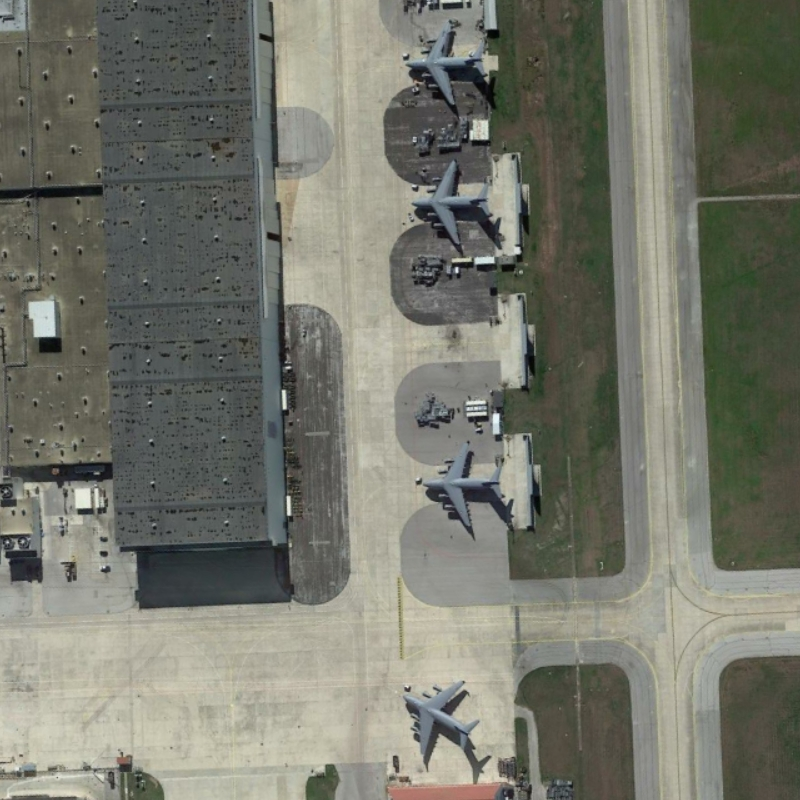A3: (394, 15, 496, 113), (404, 152, 500, 254), (421, 434, 511, 539), (395, 674, 487, 769)
